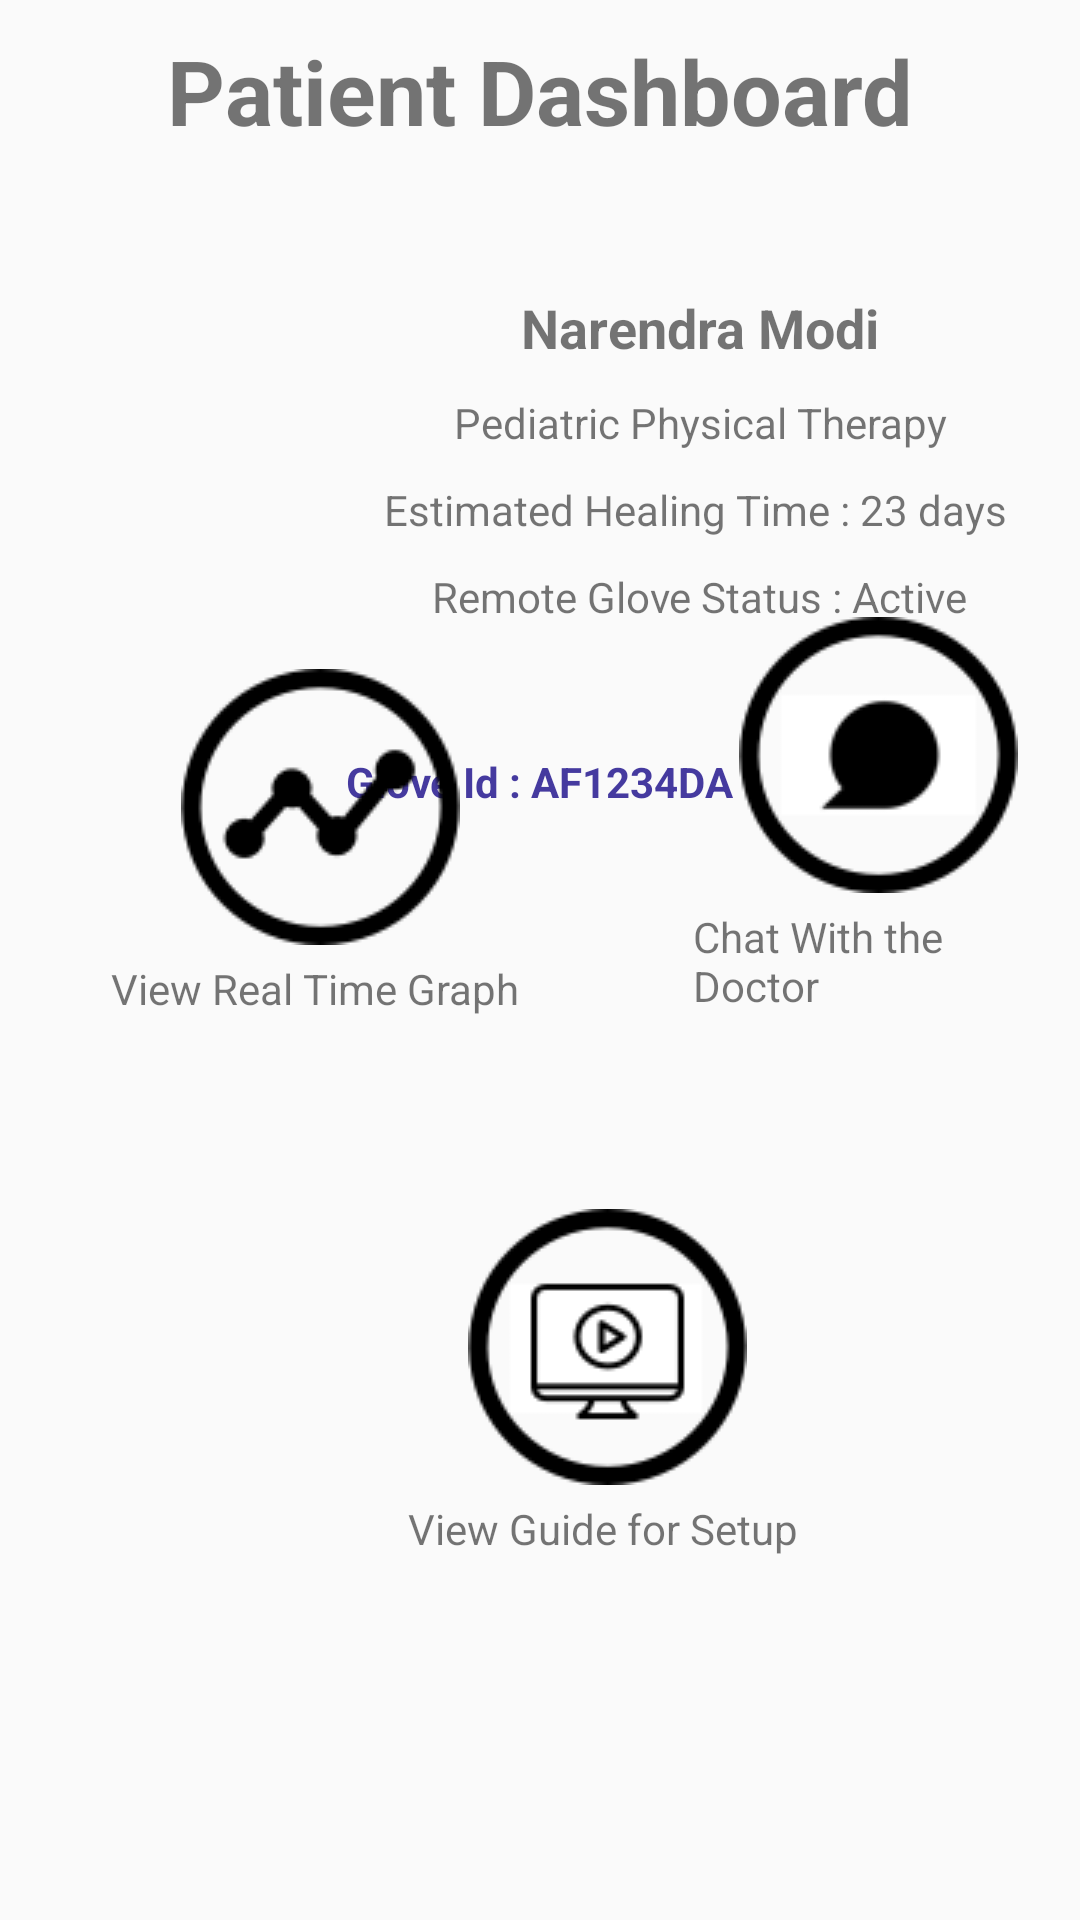

Icons on this 1080w x 1920h Android screen, each with the point to tap as (x,y):
progress: (320,807)
